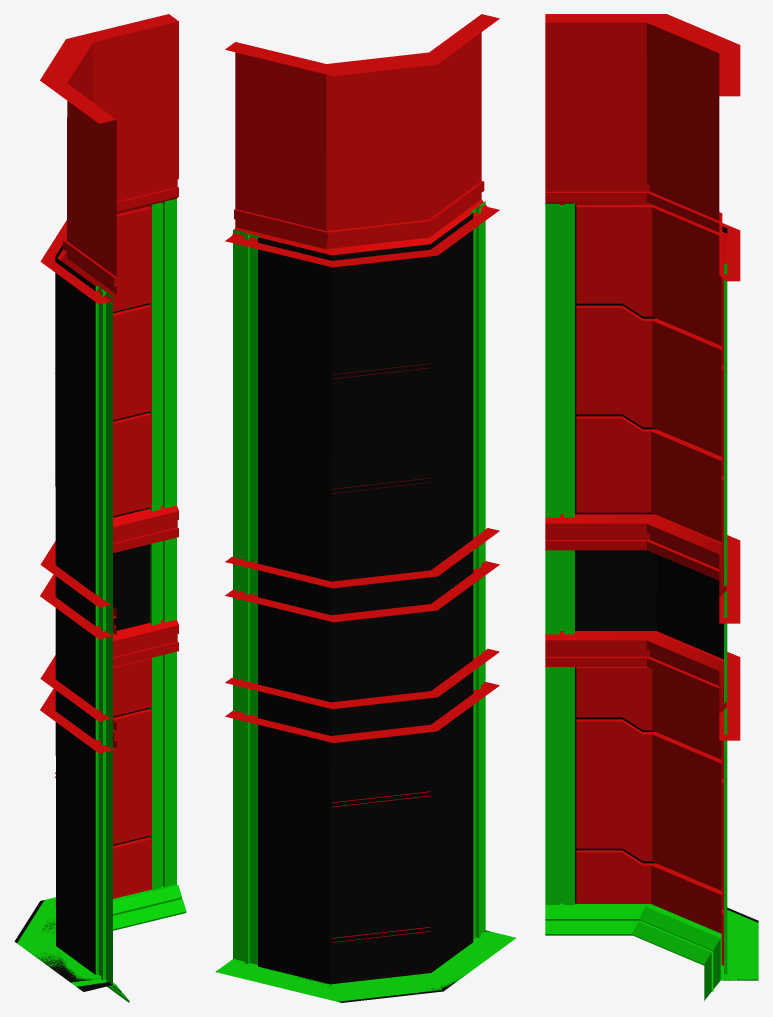
Rendered from SM_ValveRoom_Wall_200_Curve_Base.fbx.
The picture shows the model from 3 angles, left to right: view 1: azimuth 30°, elevation 25°; view 2: azimuth 150°, elevation 25°; view 3: azimuth 270°, elevation 25°; orthographic projection. The views are drawn at different scales.
Visible parts, largest first — view 1: SM_ValveRoom_Wall_200_Curve_Base; view 2: SM_ValveRoom_Wall_200_Curve_Base; view 3: SM_ValveRoom_Wall_200_Curve_Base.
Part boxes in pixels (<box>): SM_ValveRoom_Wall_200_Curve_Base: <box>14,14,186,1002</box>; SM_ValveRoom_Wall_200_Curve_Base: <box>216,14,516,1002</box>; SM_ValveRoom_Wall_200_Curve_Base: <box>545,14,758,1001</box>.
Size of the model in its own units: 235 by 1100 by 235.
